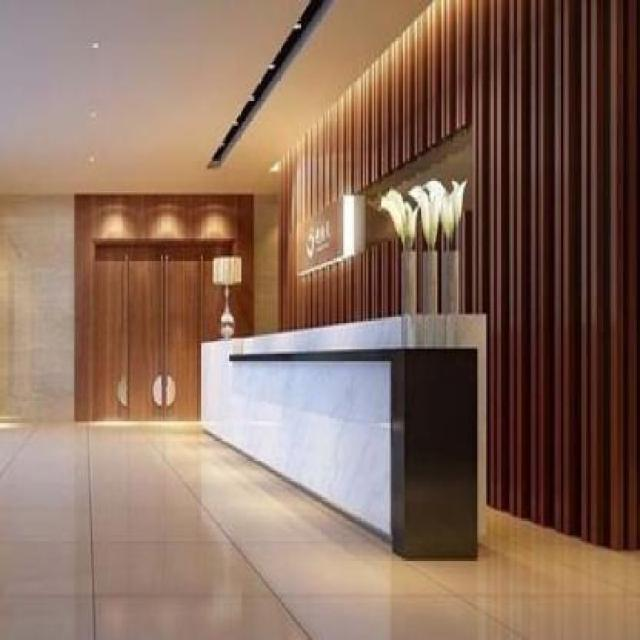frontdesk: (198, 308, 498, 570)
